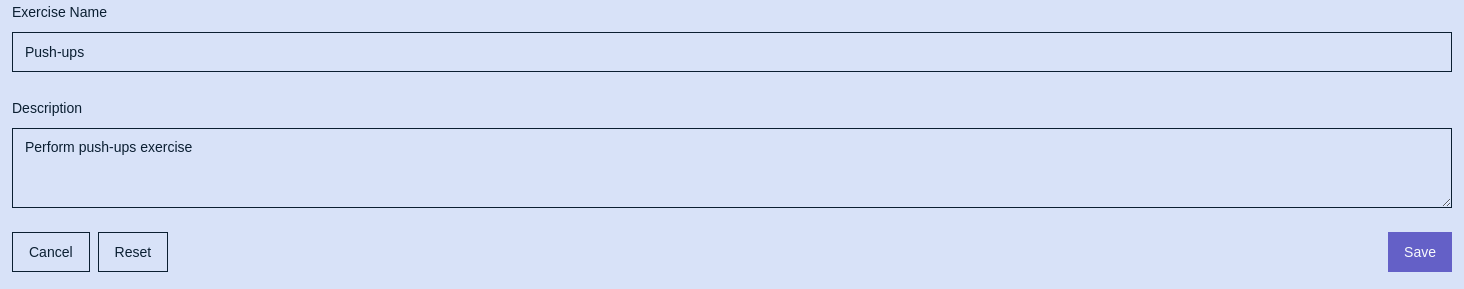
Scenario: Exercise form › resets form
Replace the text in the field labelled "Exercise Name" with "Squats" at (732, 52), box [12,32,1452,72]
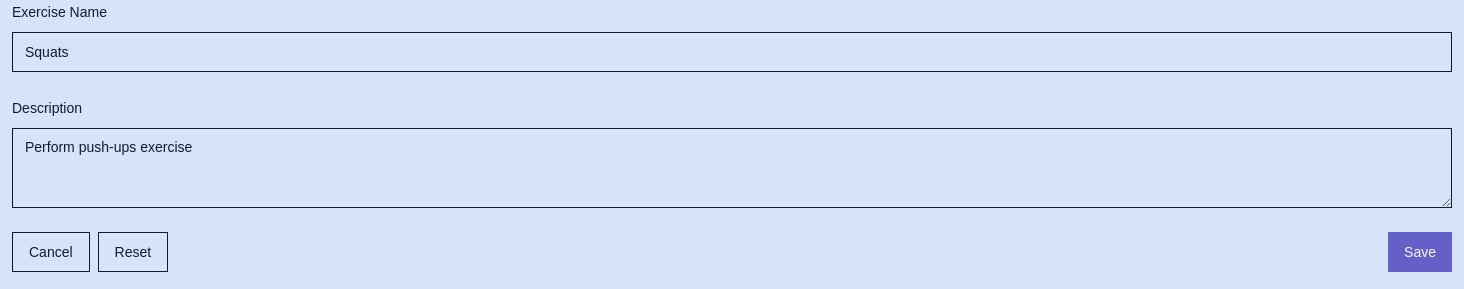
Replace the text in the text box labelled "Description" with "Perform squats exercise" at (732, 168), box [12,128,1452,208]
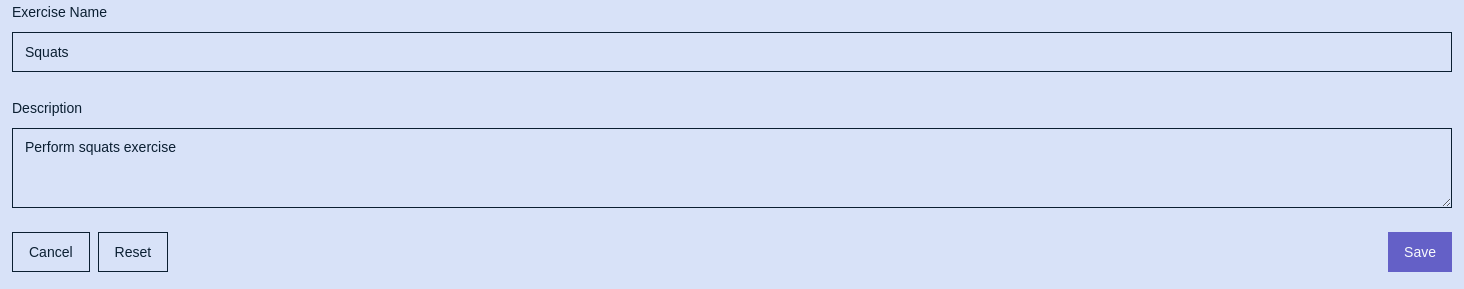
Click the button "Reset" at (133, 252), box [98,232,168,272]
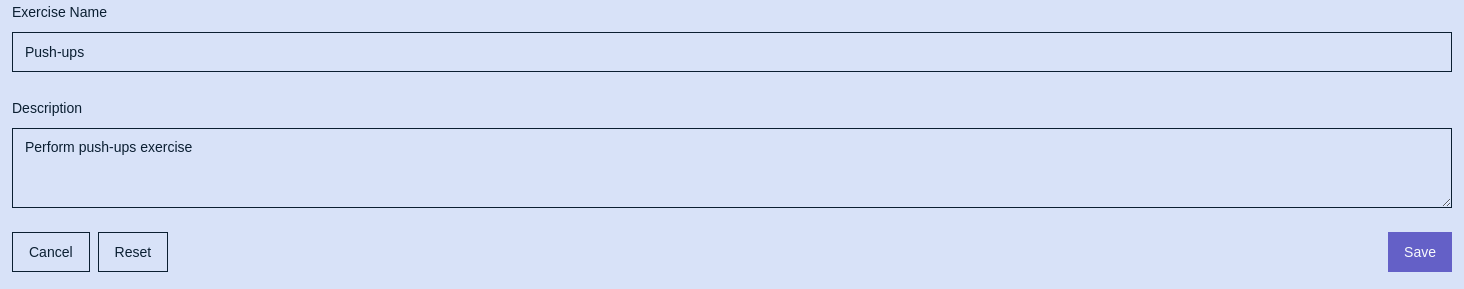
Expected: the field labelled "Exercise Name" holds "Push-ups", [12,32,1452,72]
Expected: the text box labelled "Description" holds "Perform push-ups exercise", [12,128,1452,208]
